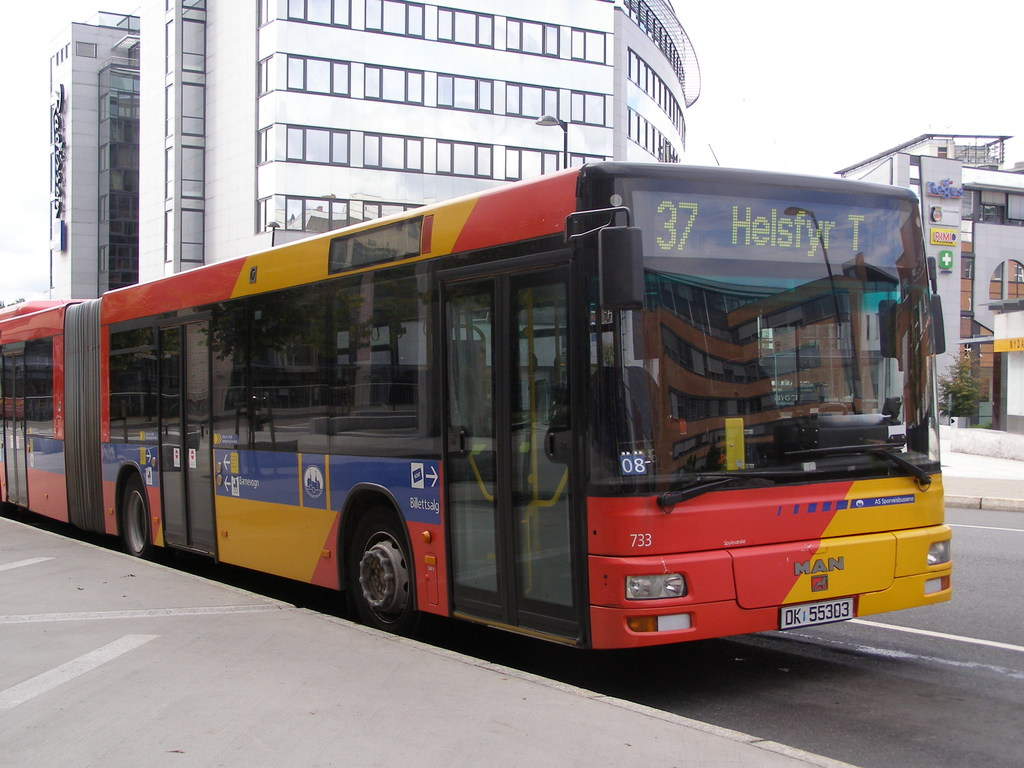Bus: (0, 160, 951, 650)
